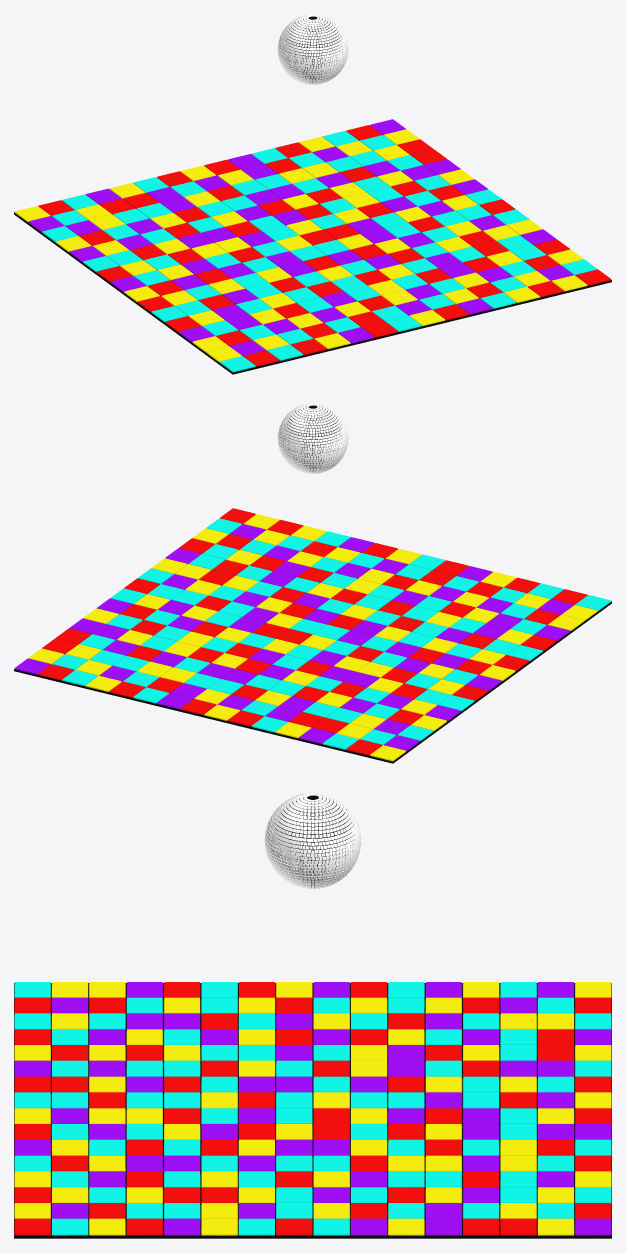
File: disco_ball__dance_floor.glb
The picture shows the model from 3 angles, top to bottom: view 1: azimuth 30°, elevation 25°; view 2: azimuth 150°, elevation 25°; view 3: azimuth 270°, elevation 25°; orthographic projection. The views are drawn at different scales.
Parts seen in each view (by area): view 1: Dance Floor, Disco Ball; view 2: Dance Floor, Disco Ball; view 3: Dance Floor, Disco Ball.
Part boxes in pixels (x1,y1,x2,y2): Dance Floor: (14,119,611,374); Disco Ball: (277,14,348,84); Dance Floor: (14,508,611,763); Disco Ball: (277,403,348,473); Dance Floor: (14,982,611,1238); Disco Ball: (264,792,361,888).
Bounding box in the file's own units: 5 × 2.91 × 5.
2 materials, 2 textured.
